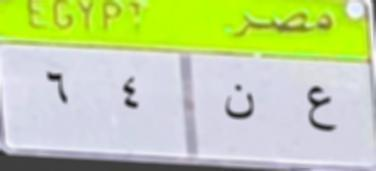4: (111, 73, 149, 118)
6: (42, 60, 74, 114)
ain: (302, 81, 339, 138)
noon: (211, 74, 262, 130)
